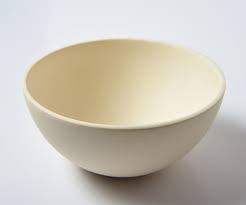bowl: (18, 34, 228, 183)
